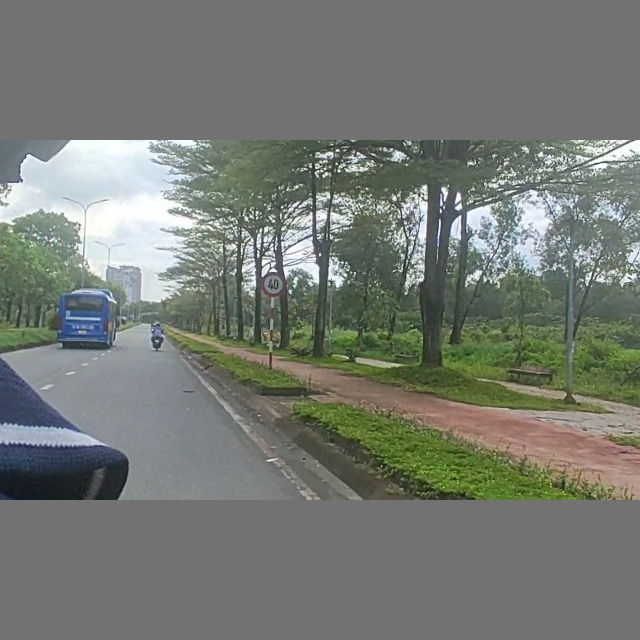P.127*40: (258, 270, 287, 295)
